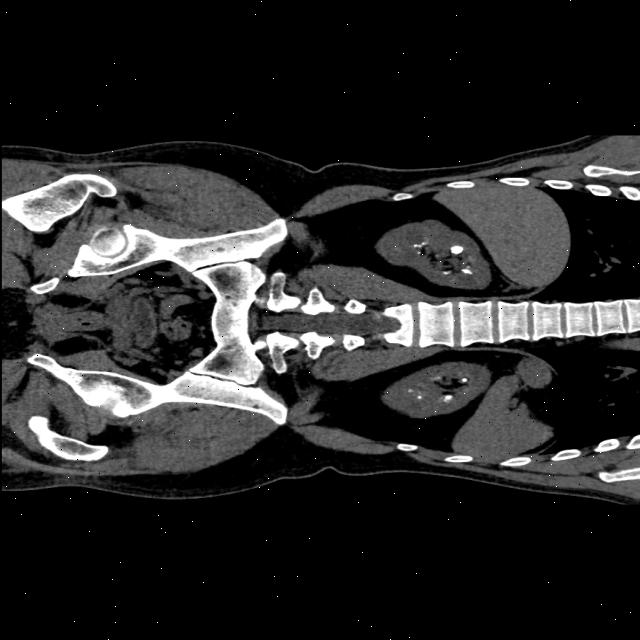kidneystone: (457, 370, 473, 384), (449, 245, 462, 255), (412, 241, 425, 249), (460, 269, 472, 275), (443, 395, 452, 402), (441, 269, 450, 275), (408, 382, 412, 393)
